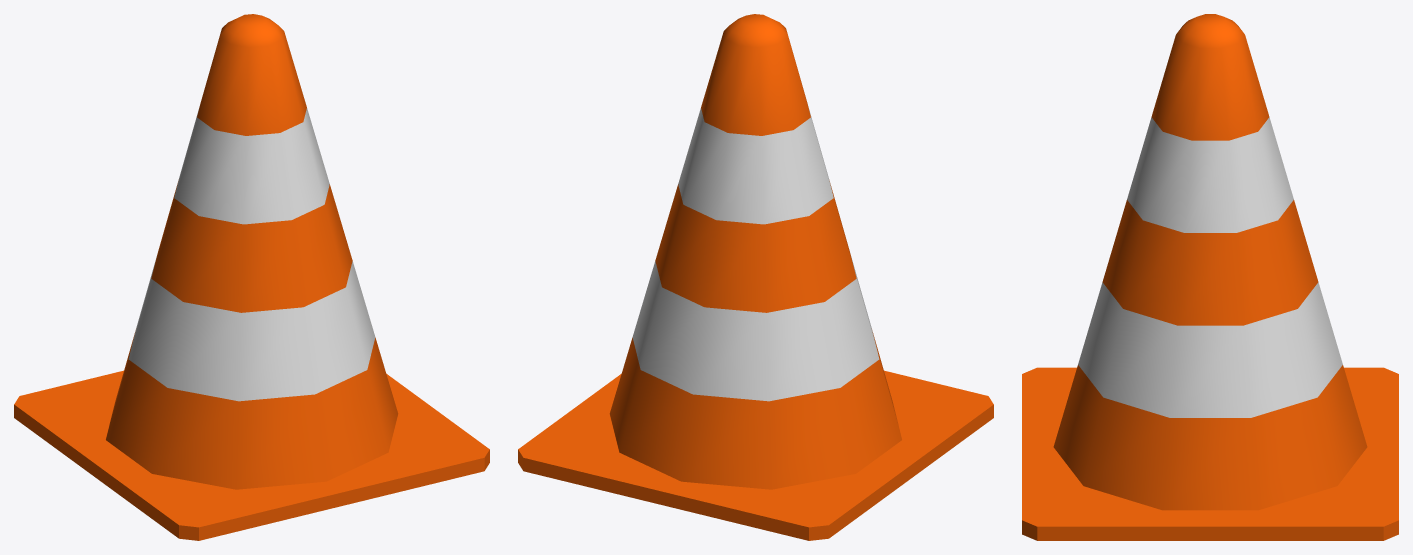
File: traffic_cone_01.fbx
3 renders of one model, left to right at view 1: azimuth 30°, elevation 25°; view 2: azimuth 150°, elevation 25°; view 3: azimuth 270°, elevation 25°, orthographic. The views are drawn at different scales.
Visible parts, largest first — view 1: traffic_cone_01; view 2: traffic_cone_01; view 3: traffic_cone_01.
Part boxes in pixels (box(x1,y1,x2,y2)): traffic_cone_01: box(14, 14, 489, 540); traffic_cone_01: box(518, 14, 993, 540); traffic_cone_01: box(1022, 14, 1398, 540).
Bounding box in the file's own units: 0.48 × 0.6216 × 0.48.
